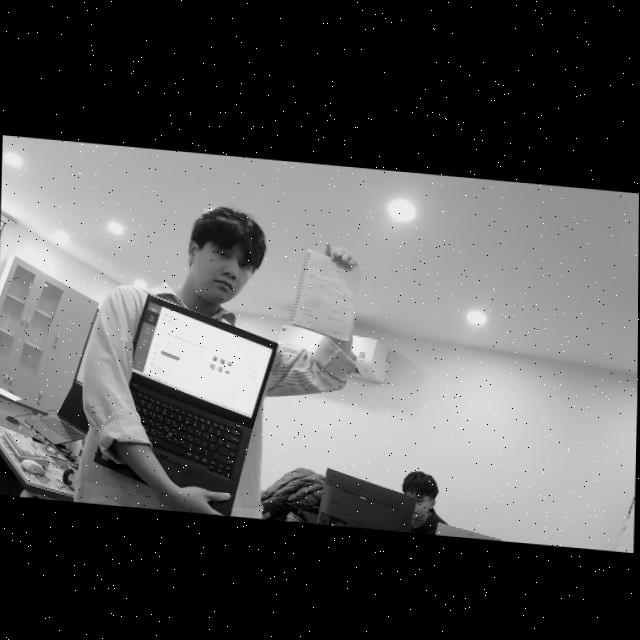document: (290, 249, 364, 343)
face: (187, 204, 272, 309)
